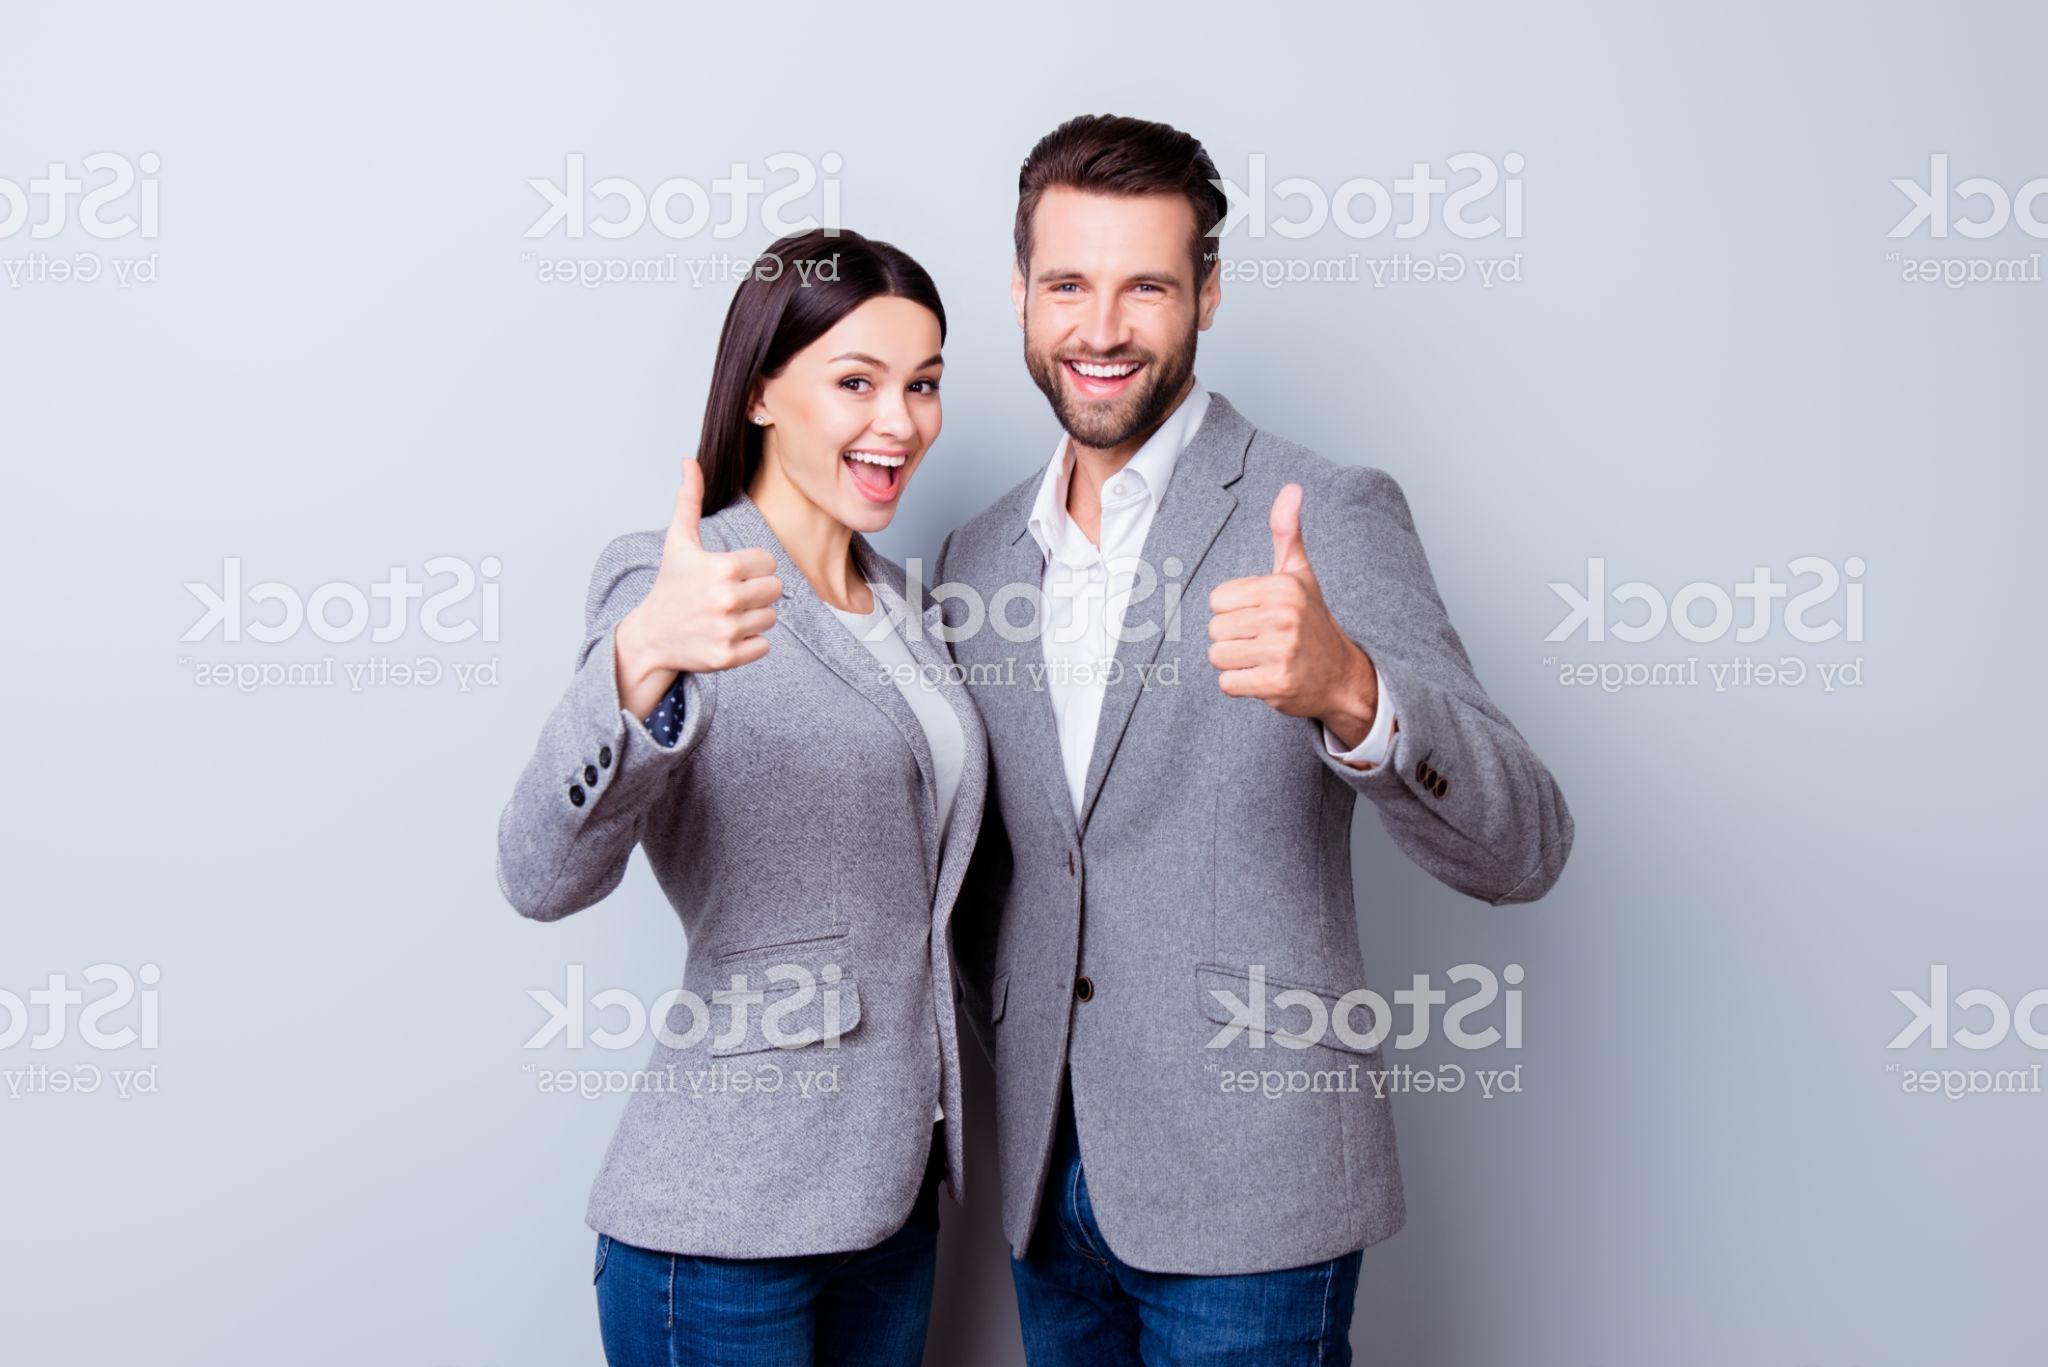thumbsup: (1205, 478, 1331, 712), (660, 456, 785, 676)
